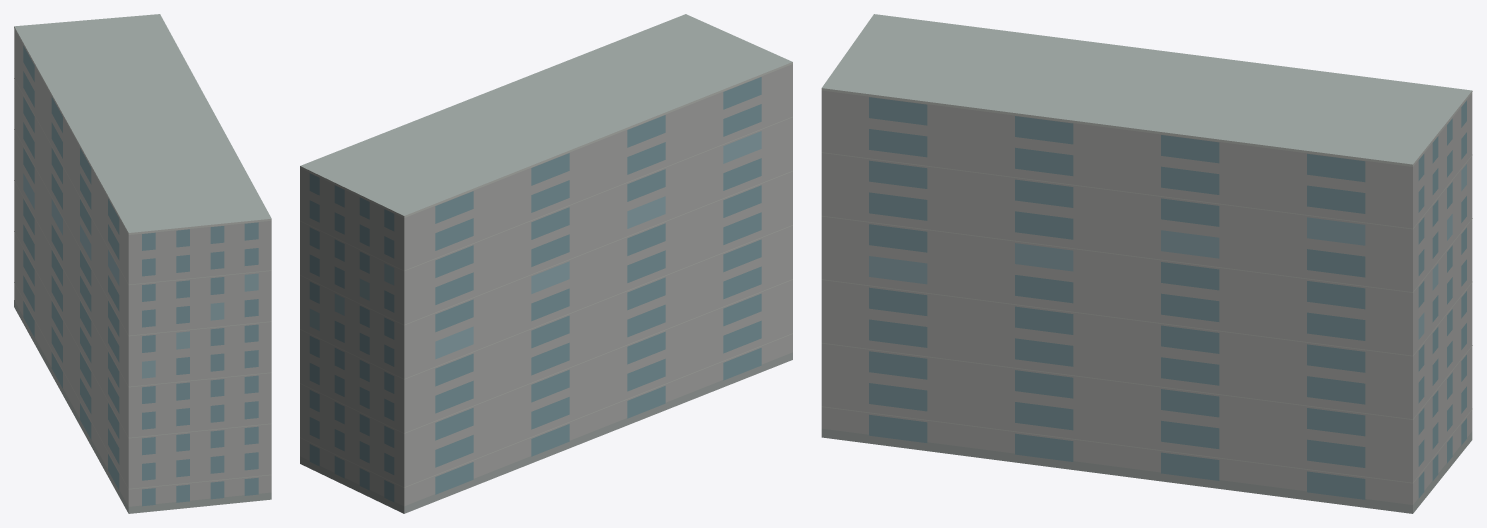
Rendered from survey-upis-32740028.glb.
3 renders of one model, left to right at view 1: azimuth 30°, elevation 25°; view 2: azimuth 150°, elevation 25°; view 3: azimuth 270°, elevation 25°, orthographic. The views are drawn at different scales.
Visible parts, largest first — view 1: survey-upis-32740028.tmp; view 2: survey-upis-32740028.tmp; view 3: survey-upis-32740028.tmp.
Part boxes in pixels (left/top/right/bottom): survey-upis-32740028.tmp: left=14, top=14, right=271, bottom=513; survey-upis-32740028.tmp: left=300, top=14, right=792, bottom=513; survey-upis-32740028.tmp: left=821, top=14, right=1472, bottom=513.
Size of the model in its own units: 32.27 by 34.9 by 58.94.
